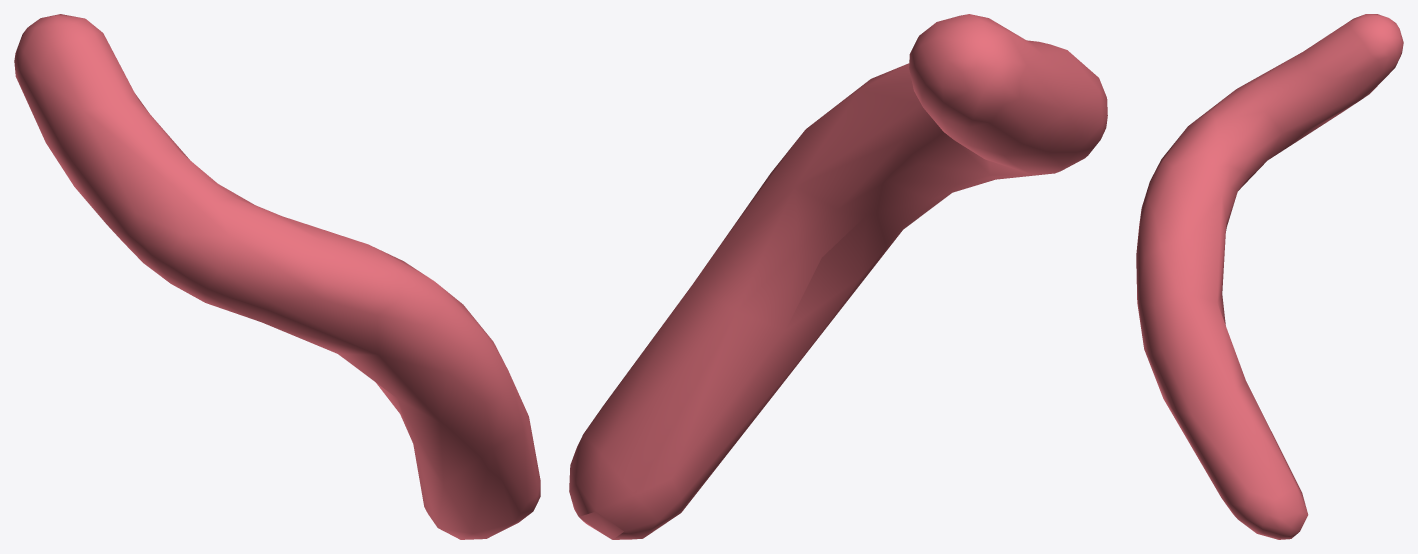
File: fma8661_fj6138.glb
3 views of the same model, side by side, from view 1: azimuth 30°, elevation 25°; view 2: azimuth 150°, elevation 25°; view 3: azimuth 270°, elevation 25° (orthographic). The views are drawn at different scales.
Visible parts, largest first — view 1: FMA8661_FJ6138; view 2: FMA8661_FJ6138; view 3: FMA8661_FJ6138.
Part boxes in pixels (x1,y1,x2,y2): FMA8661_FJ6138: (14, 14, 540, 539); FMA8661_FJ6138: (569, 14, 1107, 539); FMA8661_FJ6138: (1136, 14, 1403, 539).
Bounding box in the file's own units: 0.0253 × 0.0306 × 0.0187.
